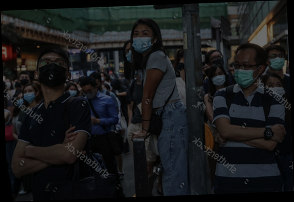with_mask: (37, 55, 68, 88), (232, 58, 257, 89), (132, 29, 153, 52), (265, 81, 285, 98), (267, 53, 285, 70), (211, 70, 226, 87), (22, 88, 37, 105), (208, 54, 224, 68), (80, 87, 96, 100), (124, 46, 134, 64), (17, 75, 29, 87), (14, 95, 24, 109), (66, 86, 77, 97)
